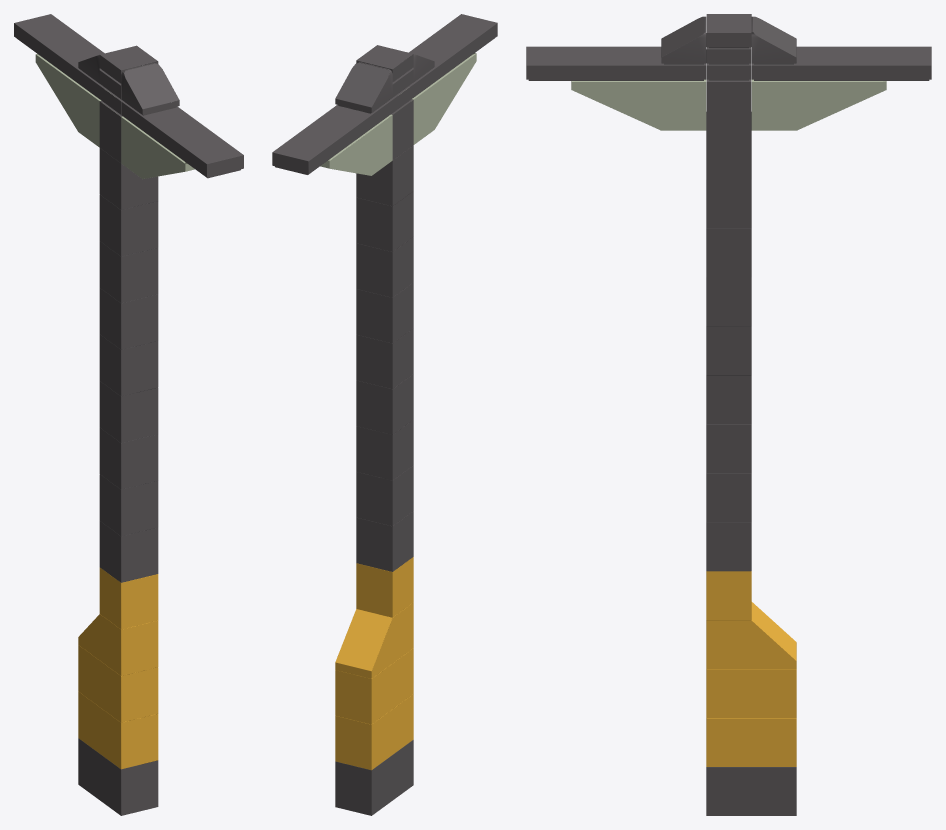
The model's file is IndustrialLightWhite.fbx.
The picture shows the model from 3 angles, left to right: view 1: azimuth 30°, elevation 25°; view 2: azimuth 150°, elevation 25°; view 3: azimuth 270°, elevation 25°; orthographic projection. The views are drawn at different scales.
Parts seen in each view (by area): view 1: LampPost, LightBody; view 2: LampPost, LightBody; view 3: LampPost, LightBody.
Part boxes in pixels (x1,y1,x2,y2): LampPost: (14, 14, 243, 815); LightBody: (35, 54, 194, 178); LampPost: (272, 14, 497, 815); LightBody: (320, 53, 476, 175); LampPost: (526, 14, 931, 815); LightBody: (571, 81, 886, 130).
Size of the model in its own units: 0.2 by 3.84 by 1.8.
